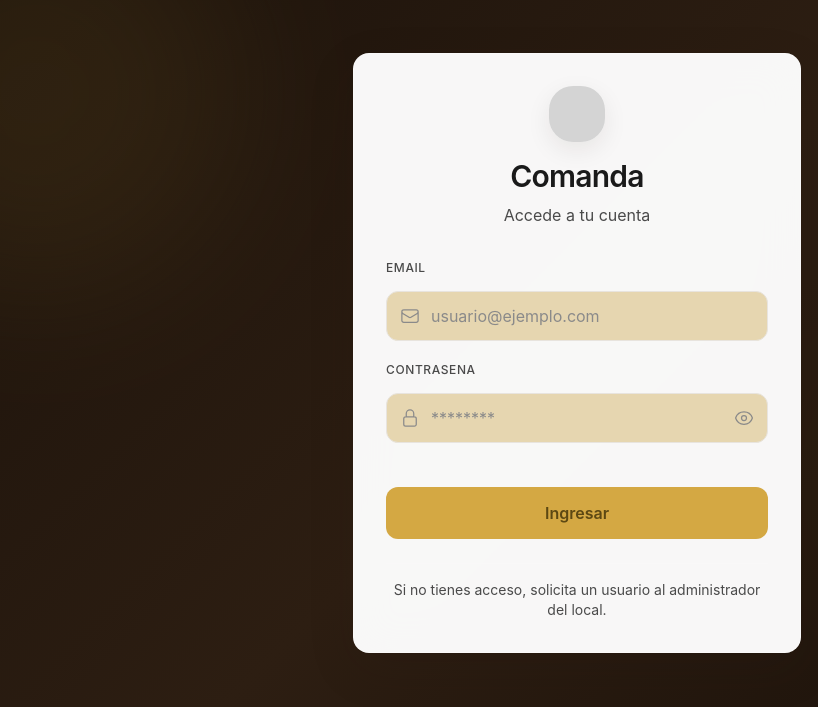
Test: Login page › muestra error cuando el login falla
In the field with placeholder "usuario@ejemplo.com": (577, 316) x1=386 y1=291 x2=768 y2=341, type "admin@demo.com"
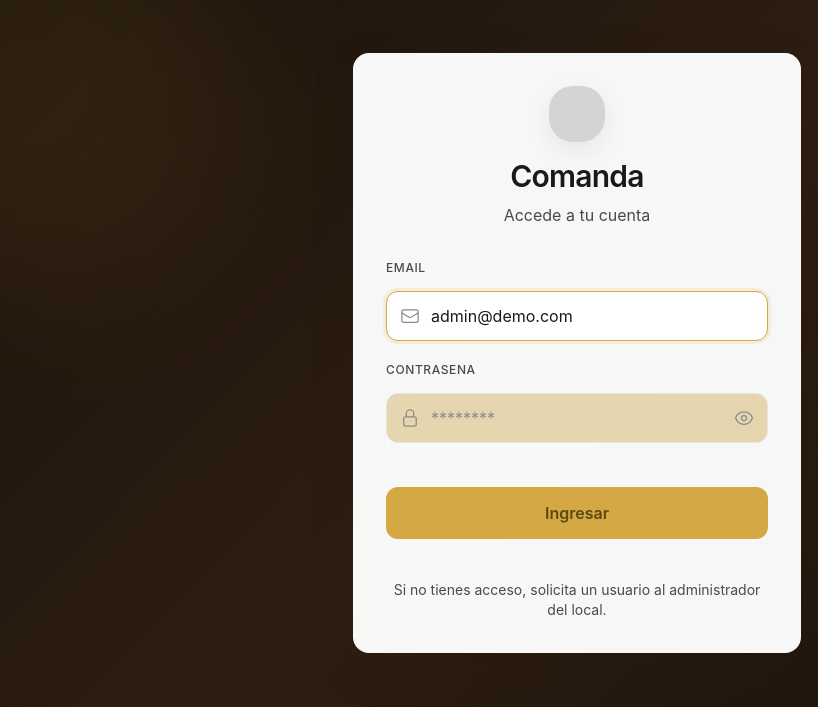
In the password field with placeholder "********": (577, 418) x1=386 y1=393 x2=768 y2=443, type "secret"
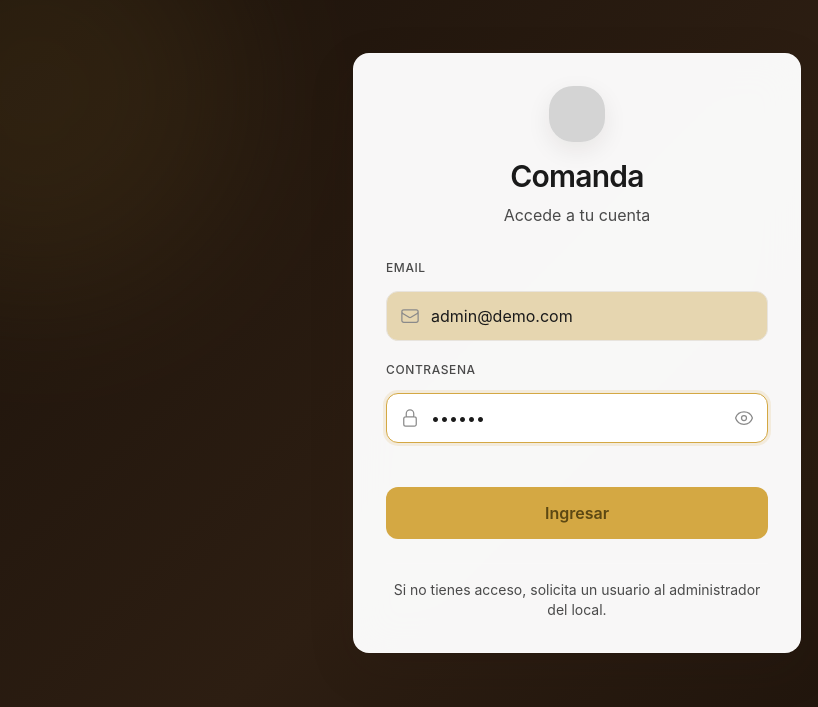
Click the button "Ingresar": (577, 513) x1=386 y1=487 x2=768 y2=539
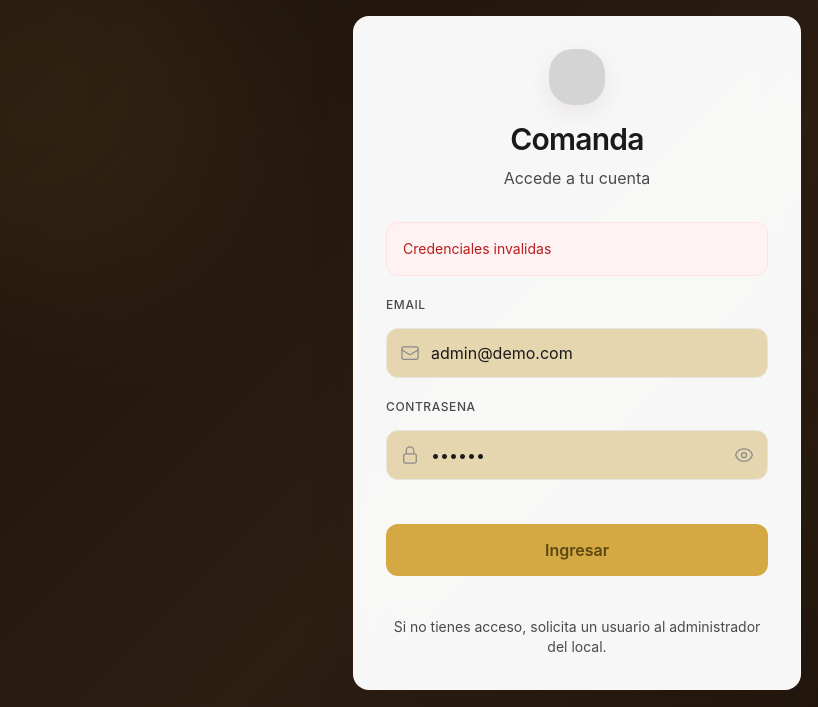
Now the message reads "Credenciales invalidas", box x1=403 y1=240 x2=551 y2=257
